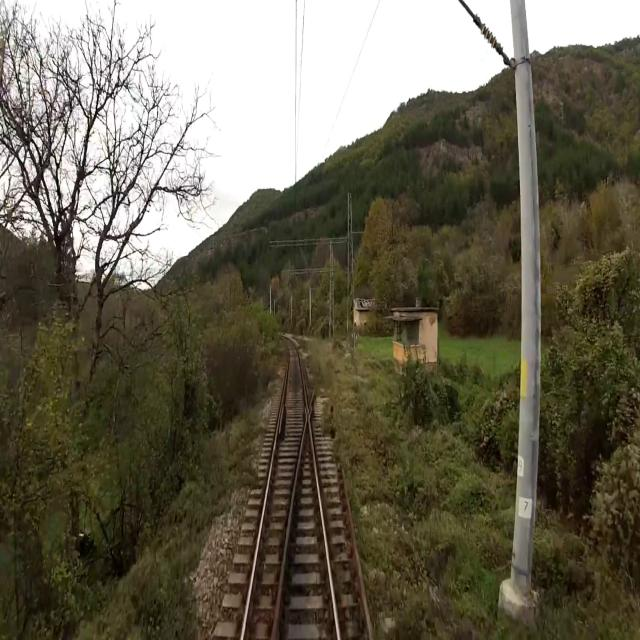rail-track: (245, 341, 306, 639), (311, 370, 369, 639), (275, 425, 336, 639)
